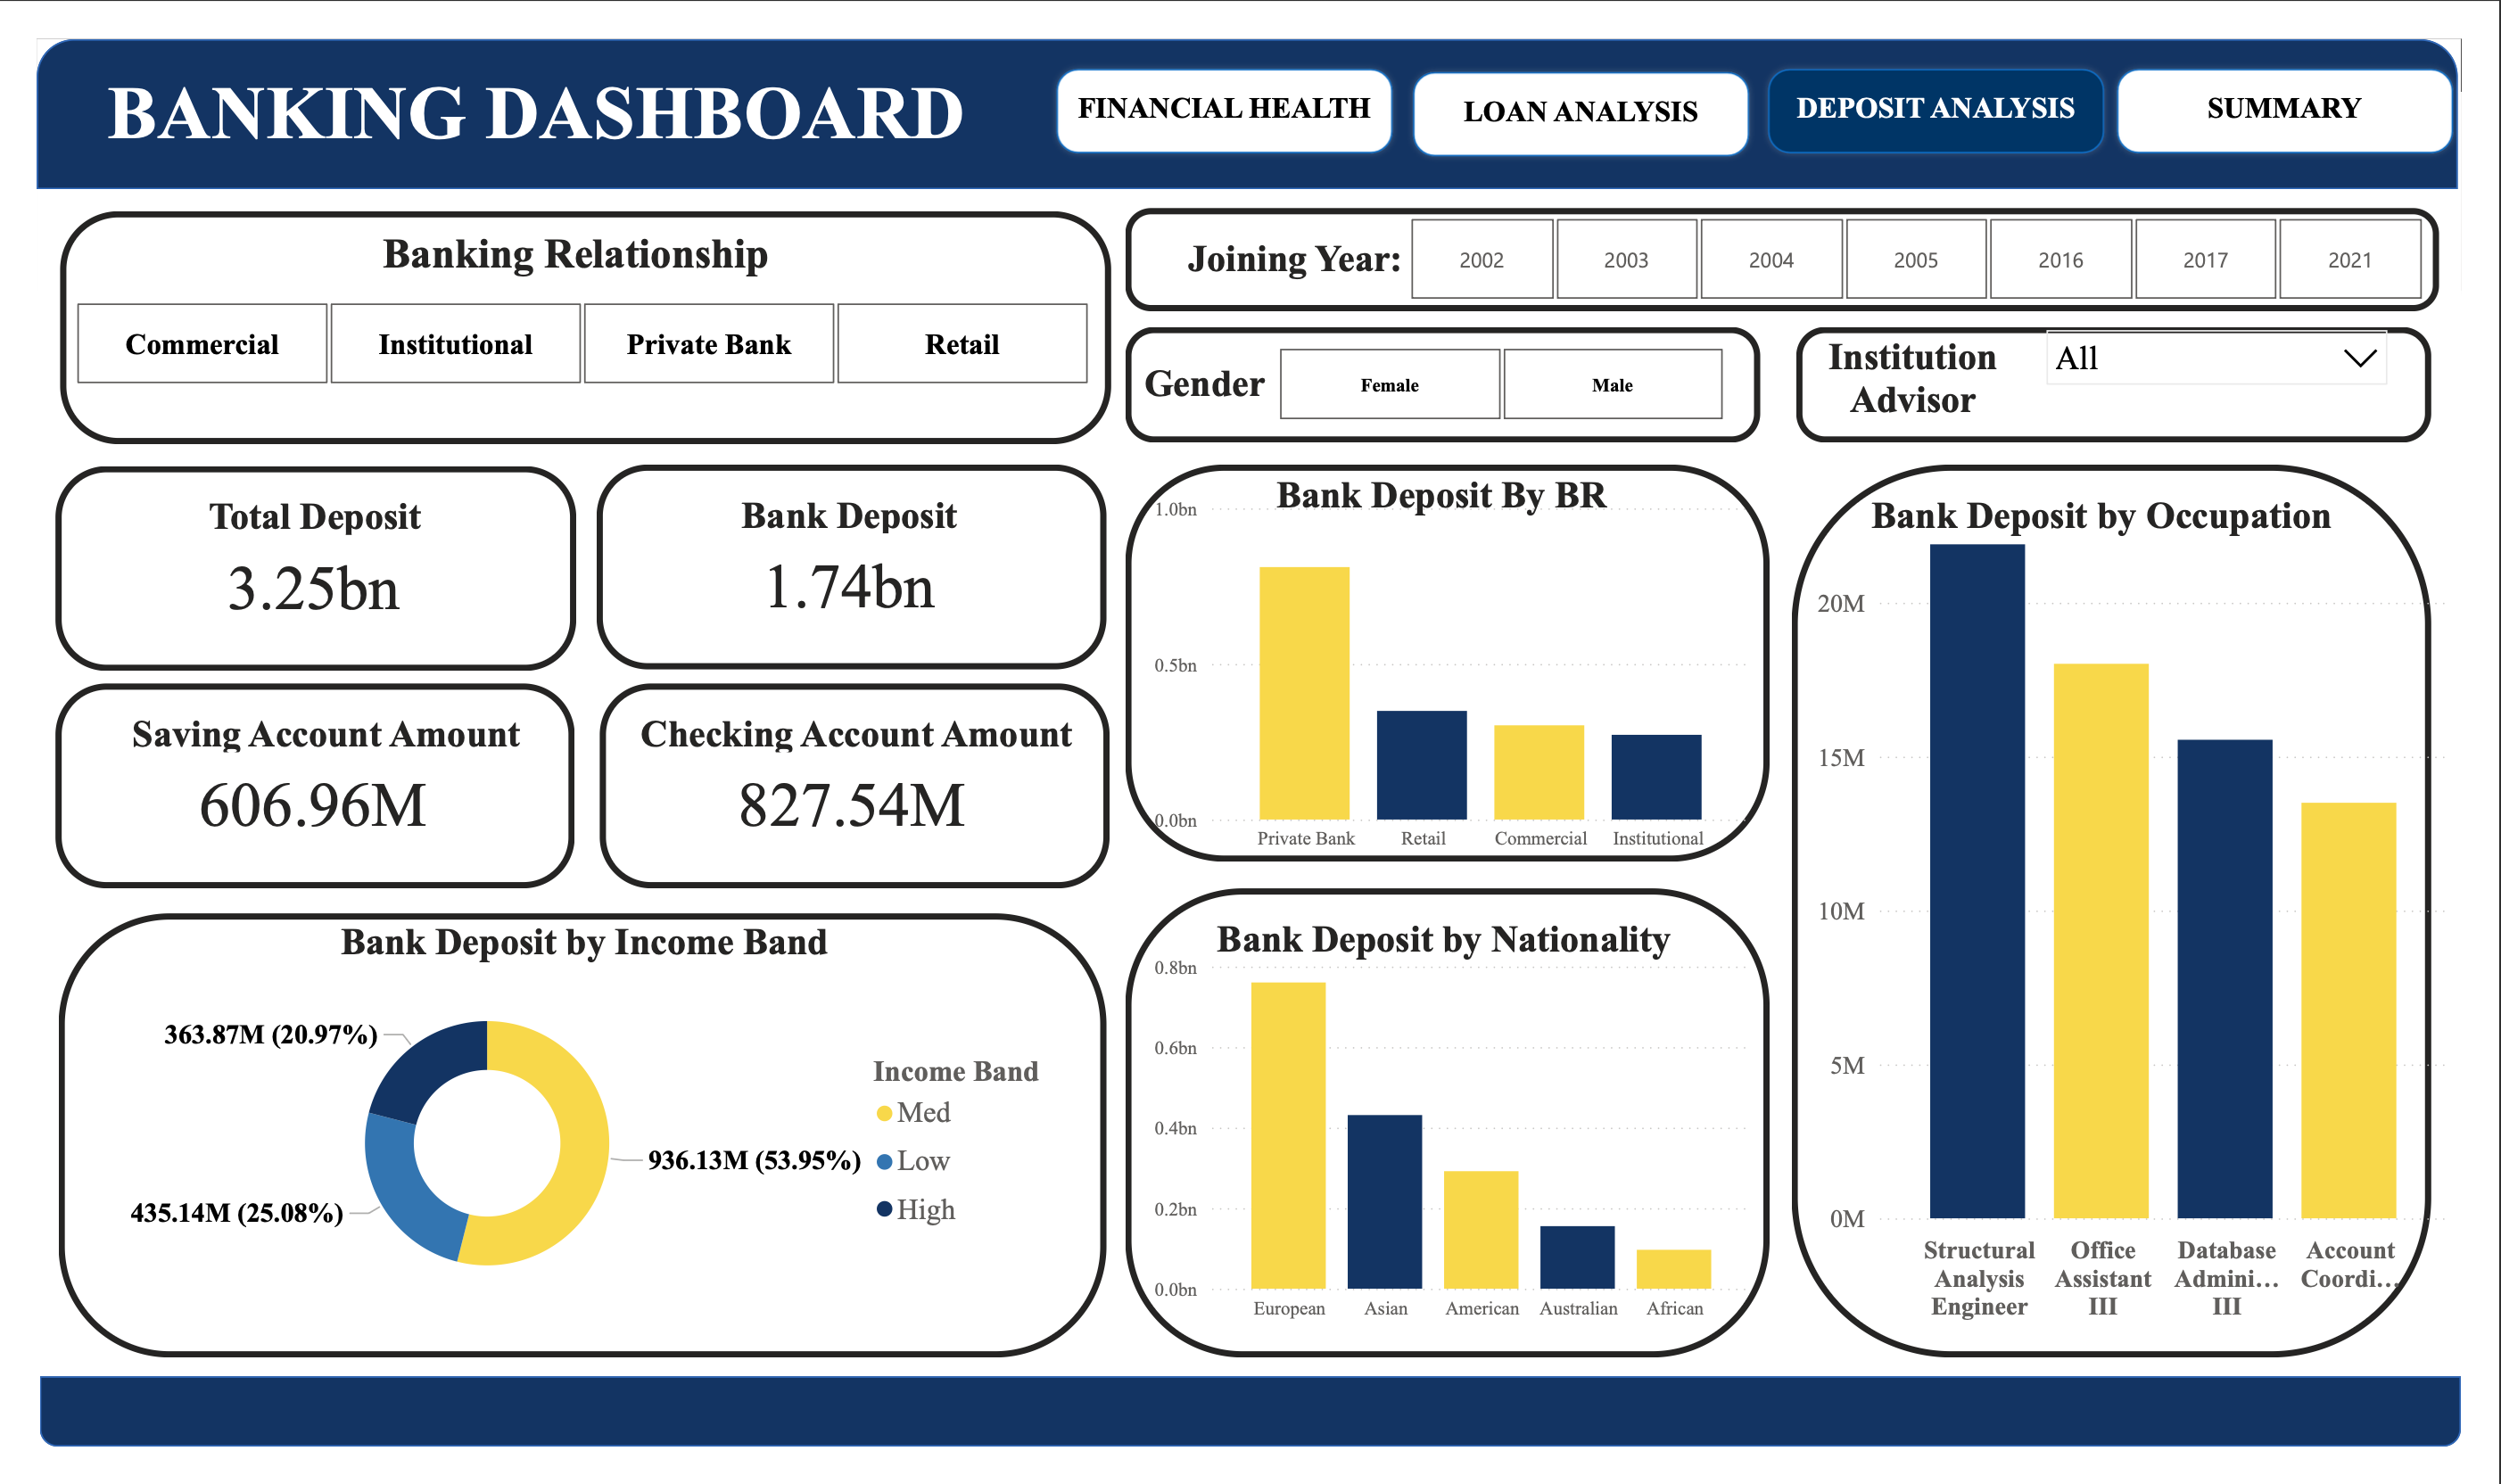

This screenshot's page, from the dashboard's own definition file:
{"tool":"powerbi","page":{"name":"Deposit Analysis","canvas":[1550,900],"ordinal":2},"visuals":[{"type":"shape","box":[0,0,1548.5,95.7],"z":0},{"type":"shape","box":[696.3,108.1,839.8,66.4],"z":1000,"group":"g5"},{"type":"shape","box":[13.9,558.9,670,284.1],"z":1000},{"type":"shape","box":[647.9,14.7,223.9,61.8],"z":2000,"group":"g1"},{"type":"shape","box":[1102.9,15.4,223.9,61.8],"z":2000,"group":"g3"},{"type":"shape","box":[1325.2,15.4,223.9,61.8],"z":2000,"group":"g4"},{"type":"shape","box":[875.9,17,223.9,61.8],"z":2000,"group":"g2"},{"type":"shape","box":[696.3,183.7,406,74.1],"z":2000},{"type":"textbox","box":[0,13.9,639.1,81.8],"z":3000},{"type":"shape","box":[696.3,271.7,412.2,254.7],"z":4000},{"type":"textbox","box":[647.3,27.6,225.4,40.1],"z":5000,"group":"g1"},{"type":"textbox","box":[1102.3,28.3,225.4,40.1],"z":5000,"group":"g3"},{"type":"textbox","box":[1324.6,28.3,225.4,40.1],"z":5000,"group":"g4"},{"type":"textbox","box":[875.3,29.9,225.4,40.1],"z":5000,"group":"g2"},{"type":"shape","box":[12.4,412.2,331.9,131.2],"z":5000},{"type":"shape","box":[358.2,271.7,325.7,131.2],"z":6000,"group":"g7"},{"type":"shape","box":[1122.4,271.7,409.1,571.2],"z":6000},{"type":"shape","box":[12.4,273.3,333.5,131.2],"z":6000,"group":"g6"},{"type":"shape","box":[359.7,412.2,325.7,131.2],"z":6000,"group":"g8"},{"type":"shape","box":[696.3,543.4,412.2,299.5],"z":7000},{"type":"textbox","box":[210,117.3,270.2,50.9],"z":8000},{"type":"textbox","box":[35.5,558.9,629.9,44.8],"z":9000},{"type":"textbox","box":[727.1,273.3,342.7,43.2],"z":10000},{"type":"textbox","box":[44.8,426.1,274.8,38.6],"z":11000},{"type":"cardVisual","fields":{"Data":["Sum(risk_analysis client_data.saving_accounts)"]},"box":[57.1,450.8,239.9,75.6],"z":12000},{"type":"shape","box":[1.5,855.3,1548.5,44.8],"z":13000},{"type":"group","id":"g1","title":"Group 1","box":[647.3,14.7,225.4,61.8],"z":14000},{"type":"group","id":"g2","title":"Group 1","box":[875.3,17,225.4,61.8],"z":15000},{"type":"group","id":"g3","title":"Group 1","box":[1102.3,15.4,225.4,61.8],"z":16000},{"type":"group","id":"g4","title":"Group 1","box":[1324.6,15.4,225.4,61.8],"z":17000},{"type":"textbox","box":[443.8,285.4,152.3,43.3],"z":17000,"group":"g7"},{"type":"textbox","box":[100,287,155.9,43.3],"z":17000,"group":"g6"},{"type":"textbox","box":[374,425.8,301,43.2],"z":17000,"group":"g8"},{"type":"textbox","box":[727.2,122,155.9,40.1],"z":18000,"group":"g5"},{"type":"slicer","fields":{"Values":["risk_analysis client_data.brid"]},"box":[0,162.1,696.3,64.8],"z":18000},{"type":"shape","box":[15.4,109.6,671.6,149.8],"z":19000},{"type":"group","id":"g5","title":"Group 2","box":[696.3,108.1,852.2,66.4],"z":20000},{"type":"shape","box":[1125.4,183.7,406,74.1],"z":21000},{"type":"cardVisual","fields":{"Data":["Sum(risk_analysis client_data.bank_deposits)"]},"box":[402.1,310.3,235.5,75.6],"z":21000,"group":"g7"},{"type":"cardVisual","fields":{"Data":["risk_analysis client_data.TOTAL DEPOSIT"]},"box":[57.4,311.9,241,75.6],"z":21000,"group":"g6"},{"type":"cardVisual","fields":{"Data":["Sum(risk_analysis client_data.checking_accounts)"]},"box":[403.6,450.8,235.5,75.6],"z":21000,"group":"g8"},{"type":"group","id":"g6","title":"Group 3","box":[12.4,273.3,333.5,131.2],"z":22000},{"type":"group","id":"g7","title":"Group 3","box":[358.2,271.7,325.7,131.2],"z":23000},{"type":"group","id":"g8","title":"Group 3","box":[359.7,412.2,325.7,131.2],"z":24000},{"type":"textbox","box":[728.7,557.3,342.7,43.2],"z":25000},{"type":"textbox","box":[1167.1,285.6,307.2,43.2],"z":26000},{"type":"textbox","box":[696.3,202.2,101.9,44.8],"z":27000},{"type":"slicer","fields":{"Values":["risk_analysis client_data.genderid"]},"box":[768.8,191.4,333.5,58.7],"z":28000},{"type":"textbox","box":[1102.3,185.3,196.1,75.6],"z":29000},{"type":"slicer","fields":{"Values":["risk_analysis client_data.iaid"]},"box":[1275.2,174.5,237.7,75.6],"z":30000},{"type":"donutChart","fields":{"Category":["risk_analysis client_data.Income Band"],"Y":["Sum(risk_analysis client_data.bank_deposits)"]},"box":[35.5,600.5,629.9,210],"z":31000},{"type":"clusteredColumnChart","fields":{"Category":["risk_analysis client_data.brid"],"Y":["Sum(risk_analysis client_data.bank_deposits)"]},"box":[710.2,285.6,392.1,240.8],"z":32000},{"type":"slicer","fields":{"Values":["risk_analysis client_data.YEAR OF JOINING"]},"box":[853,108.4,696.3,64.8],"z":32001,"group":"g5"},{"type":"clusteredColumnChart","fields":{"Category":["risk_analysis client_data.nationality"],"Y":["Sum(risk_analysis client_data.bank_deposits)"]},"box":[710.2,578.9,392.1,247],"z":33000},{"type":"clusteredColumnChart","fields":{"Category":["risk_analysis client_data.occupation"],"Y":["Sum(risk_analysis client_data.bank_deposits)"]},"box":[1133.2,307.2,415.3,520.3],"z":34000},{"type":"actionButton","box":[646.9,17,223.9,63.3],"z":35000},{"type":"actionButton","box":[878.4,15.4,223.9,63.3],"z":36000},{"type":"actionButton","box":[1321.5,13.9,223.9,63.3],"z":37000}]}

Visuals, with their boxes in screenshot pixels (x1, y1, x2, y2), scaled from the page's 1550x900 canvas onto the 2501x1484 screenshot:
shape: x1=0, y1=0, x2=2498, y2=158
shape: x1=1124, y1=178, x2=2479, y2=288
shape: x1=22, y1=921, x2=1103, y2=1390
shape: x1=1045, y1=24, x2=1407, y2=126
shape: x1=1779, y1=25, x2=2141, y2=128
shape: x1=2138, y1=25, x2=2499, y2=128
shape: x1=1414, y1=28, x2=1775, y2=130
shape: x1=1124, y1=303, x2=1779, y2=425
textbox: x1=0, y1=23, x2=1031, y2=158
shape: x1=1124, y1=448, x2=1788, y2=868
textbox: x1=1044, y1=45, x2=1408, y2=111
textbox: x1=1779, y1=46, x2=2142, y2=112
textbox: x1=2137, y1=46, x2=2500, y2=112
textbox: x1=1412, y1=49, x2=1776, y2=115
shape: x1=20, y1=680, x2=556, y2=896
shape: x1=578, y1=448, x2=1103, y2=664
shape: x1=1811, y1=448, x2=2472, y2=1389
shape: x1=20, y1=450, x2=558, y2=667
shape: x1=581, y1=680, x2=1106, y2=896
shape: x1=1124, y1=896, x2=1788, y2=1389
textbox: x1=339, y1=194, x2=775, y2=277
textbox: x1=57, y1=921, x2=1074, y2=995
textbox: x1=1173, y1=450, x2=1726, y2=522
textbox: x1=72, y1=703, x2=516, y2=766
cardVisual - Sum(risk_analysis client_data.saving_accounts): x1=92, y1=743, x2=479, y2=868
shape: x1=3, y1=1410, x2=2500, y2=1483
"Group 1" group: x1=1044, y1=24, x2=1408, y2=126
"Group 1" group: x1=1412, y1=28, x2=1776, y2=130
"Group 1" group: x1=1779, y1=25, x2=2142, y2=128
"Group 1" group: x1=2137, y1=25, x2=2500, y2=128
textbox: x1=716, y1=471, x2=962, y2=542
textbox: x1=161, y1=474, x2=413, y2=545
textbox: x1=604, y1=702, x2=1089, y2=773
textbox: x1=1174, y1=202, x2=1425, y2=268
slicer - risk_analysis client_data.brid: x1=0, y1=268, x2=1124, y2=375
shape: x1=25, y1=181, x2=1109, y2=428
"Group 2" group: x1=1124, y1=178, x2=2498, y2=288
shape: x1=1816, y1=303, x2=2471, y2=425
cardVisual - Sum(risk_analysis client_data.bank_deposits): x1=648, y1=512, x2=1028, y2=636
cardVisual - risk_analysis client_data.TOTAL DEPOSIT: x1=93, y1=515, x2=482, y2=639
cardVisual - Sum(risk_analysis client_data.checking_accounts): x1=651, y1=743, x2=1031, y2=868
"Group 3" group: x1=20, y1=450, x2=558, y2=667
"Group 3" group: x1=578, y1=448, x2=1103, y2=664
"Group 3" group: x1=581, y1=680, x2=1106, y2=896
textbox: x1=1176, y1=919, x2=1729, y2=990
textbox: x1=1883, y1=471, x2=2379, y2=542
textbox: x1=1124, y1=334, x2=1288, y2=408
slicer - risk_analysis client_data.genderid: x1=1241, y1=316, x2=1779, y2=412
textbox: x1=1779, y1=306, x2=2095, y2=430
slicer - risk_analysis client_data.iaid: x1=2058, y1=288, x2=2441, y2=412
donutChart - risk_analysis client_data.Income Band x Sum(risk_analysis client_data.bank_deposits): x1=57, y1=990, x2=1074, y2=1337
clusteredColumnChart - risk_analysis client_data.brid x Sum(risk_analysis client_data.bank_deposits): x1=1146, y1=471, x2=1779, y2=868
slicer - risk_analysis client_data.YEAR OF JOINING: x1=1376, y1=178, x2=2500, y2=285
clusteredColumnChart - risk_analysis client_data.nationality x Sum(risk_analysis client_data.bank_deposits): x1=1146, y1=954, x2=1779, y2=1362
clusteredColumnChart - risk_analysis client_data.occupation x Sum(risk_analysis client_data.bank_deposits): x1=1828, y1=507, x2=2498, y2=1364
actionButton: x1=1044, y1=28, x2=1405, y2=132
actionButton: x1=1417, y1=25, x2=1779, y2=130
actionButton: x1=2133, y1=23, x2=2494, y2=128
